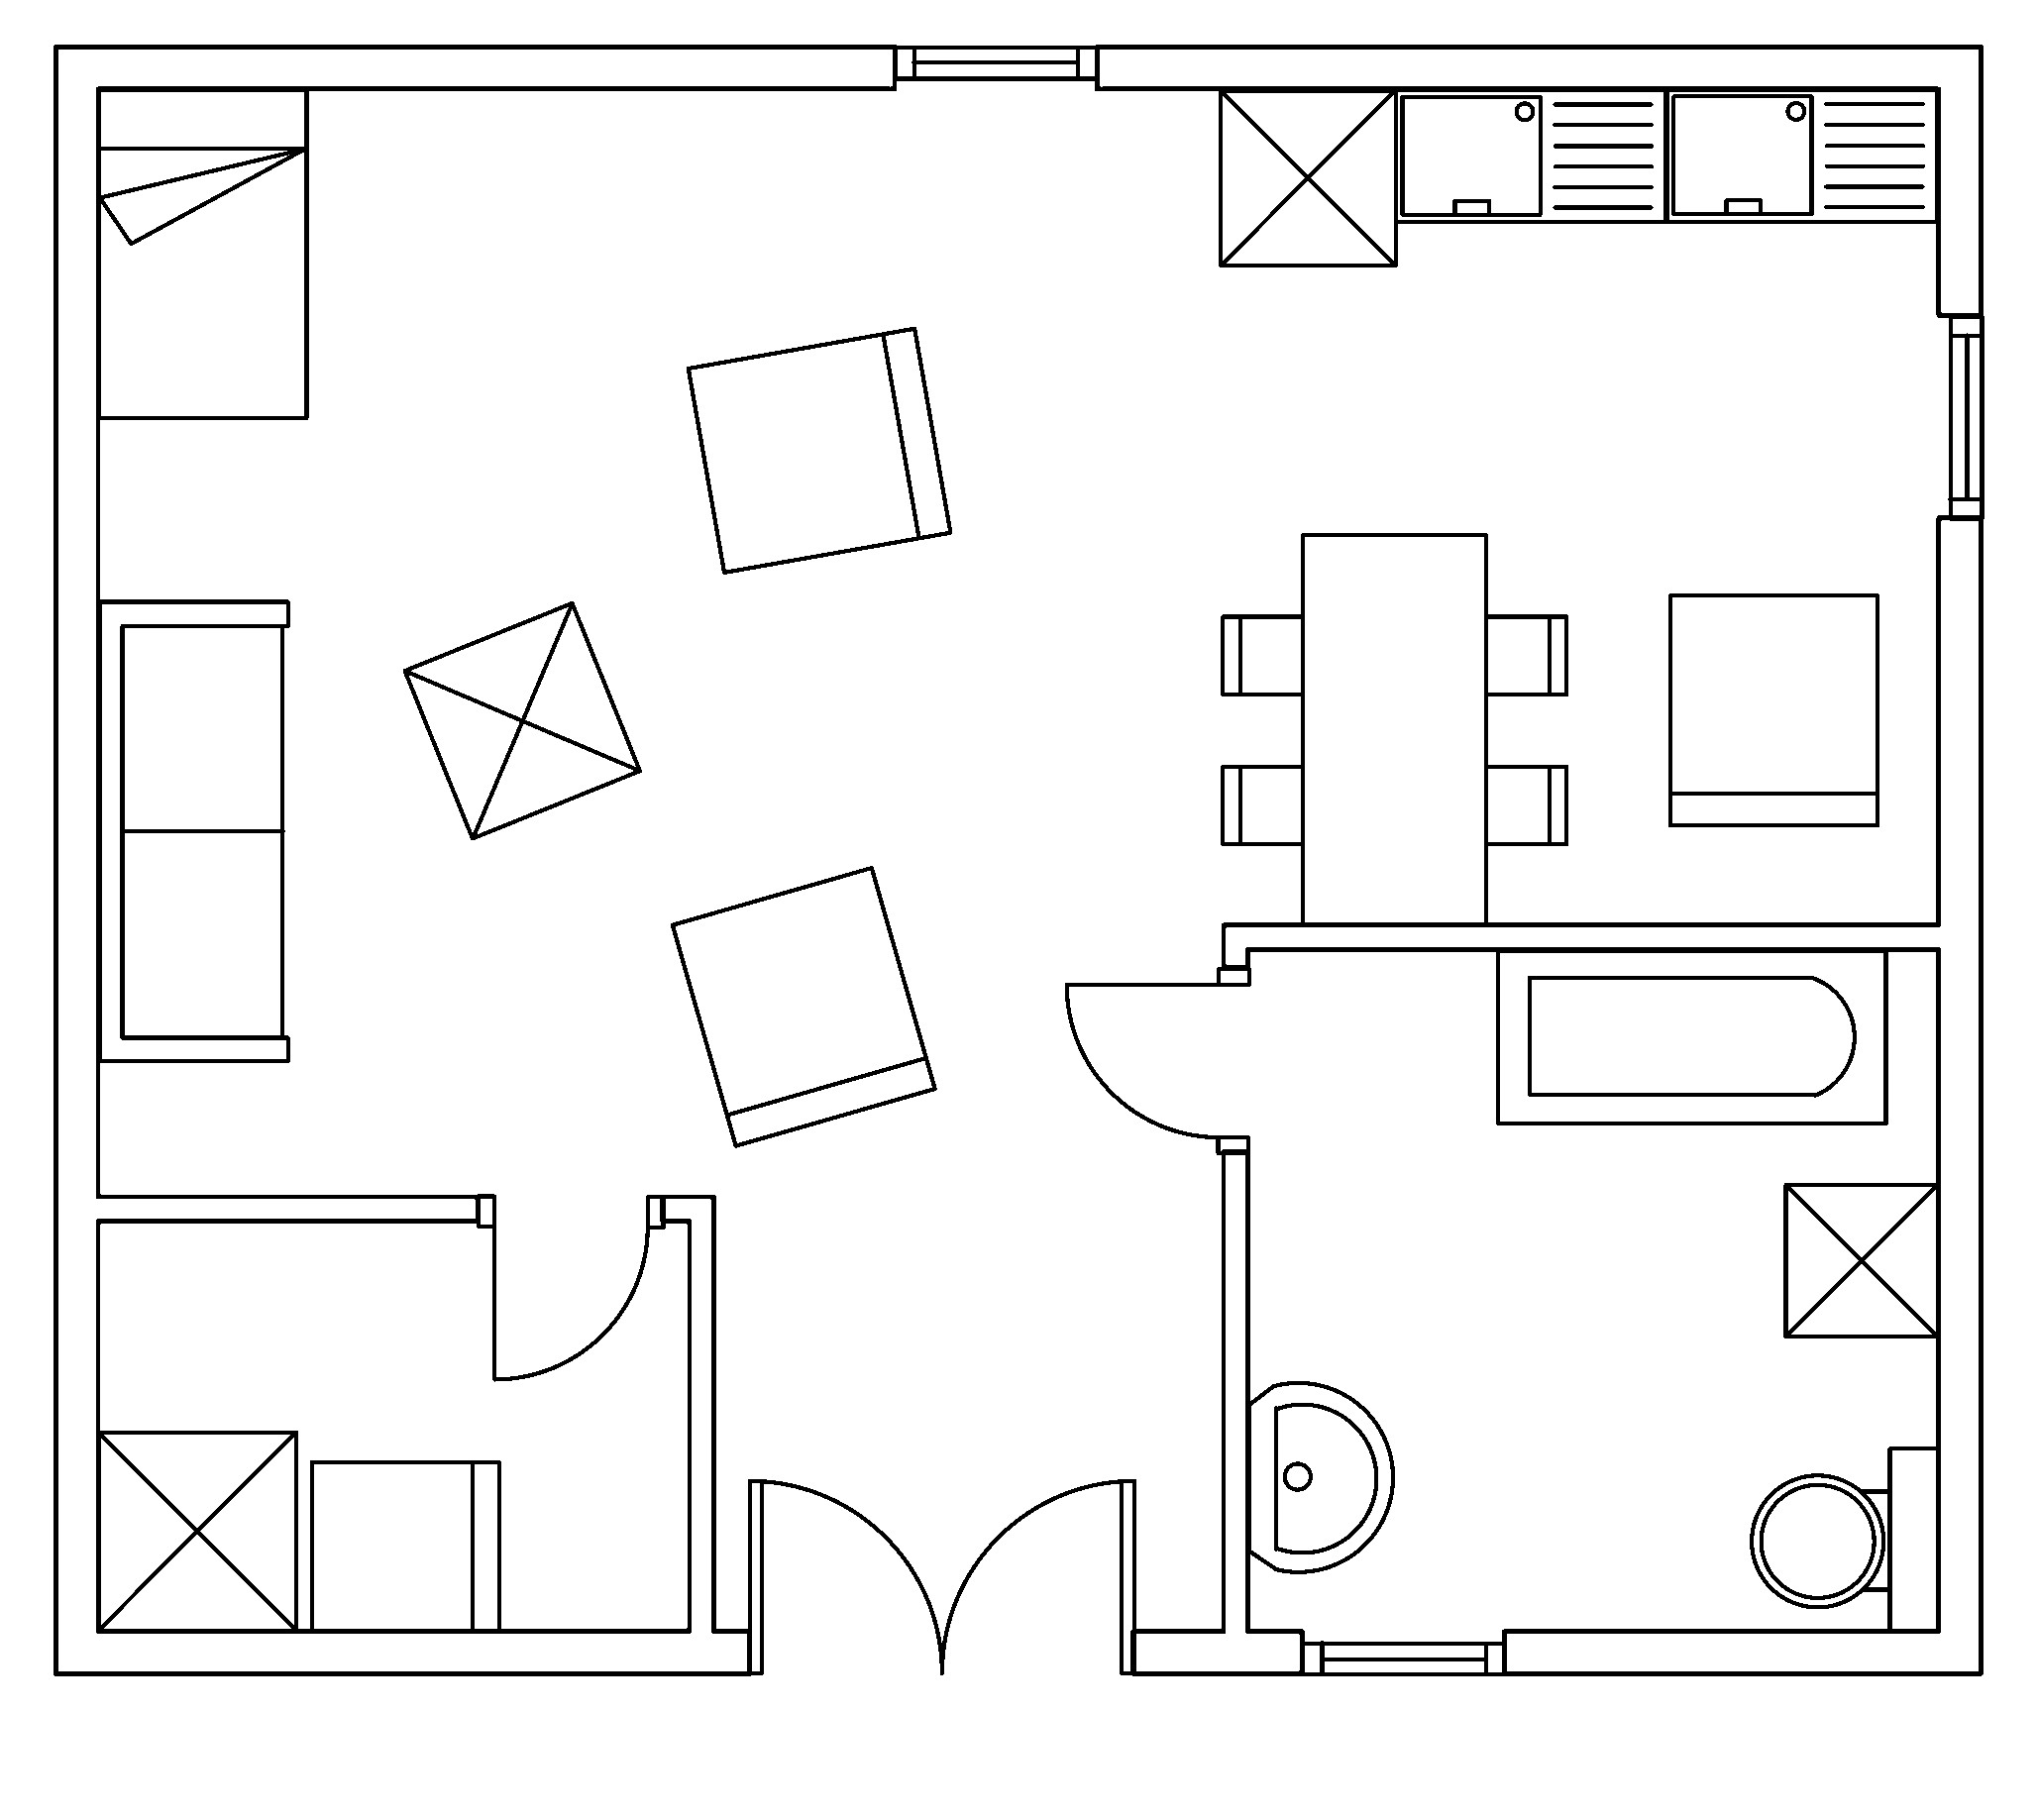bed: (95, 86, 309, 420)
coffee_table: (402, 599, 643, 840), (95, 1428, 299, 1632), (1217, 86, 1398, 267), (1781, 1181, 1940, 1339)
dining_table: (1219, 531, 1568, 926)
large_sink: (1749, 1444, 1940, 1632)
large_sofa: (97, 597, 290, 1063)
sink: (1663, 86, 1940, 223), (1393, 86, 1668, 223)
small_sink: (1245, 1381, 1394, 1572)
small_sofa: (669, 864, 938, 1149), (685, 325, 954, 574), (1666, 592, 1879, 827), (307, 1458, 500, 1632)
tub: (1494, 947, 1888, 1126)
